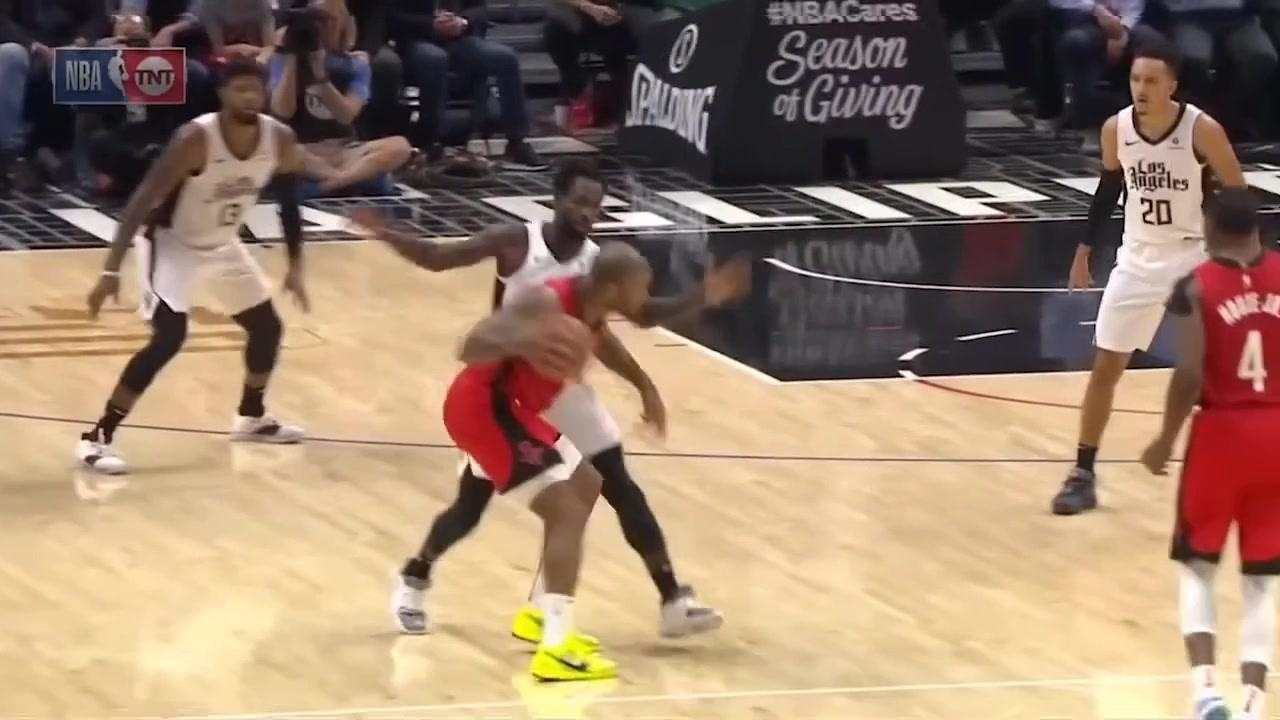no_foul: (373, 189, 736, 686)
